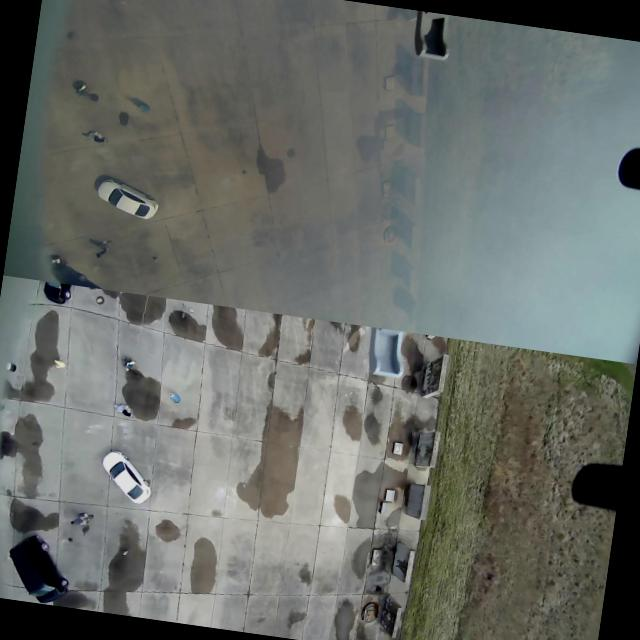car: (94, 172, 162, 222), (98, 448, 152, 507)
